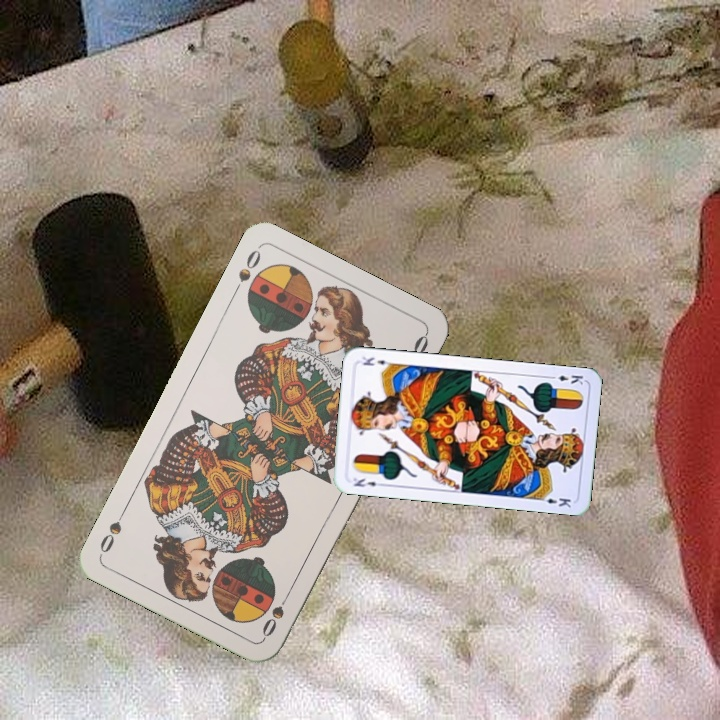EK: (545, 371, 586, 387), (349, 474, 387, 489)
SO: (258, 586, 294, 640), (228, 245, 264, 298)
